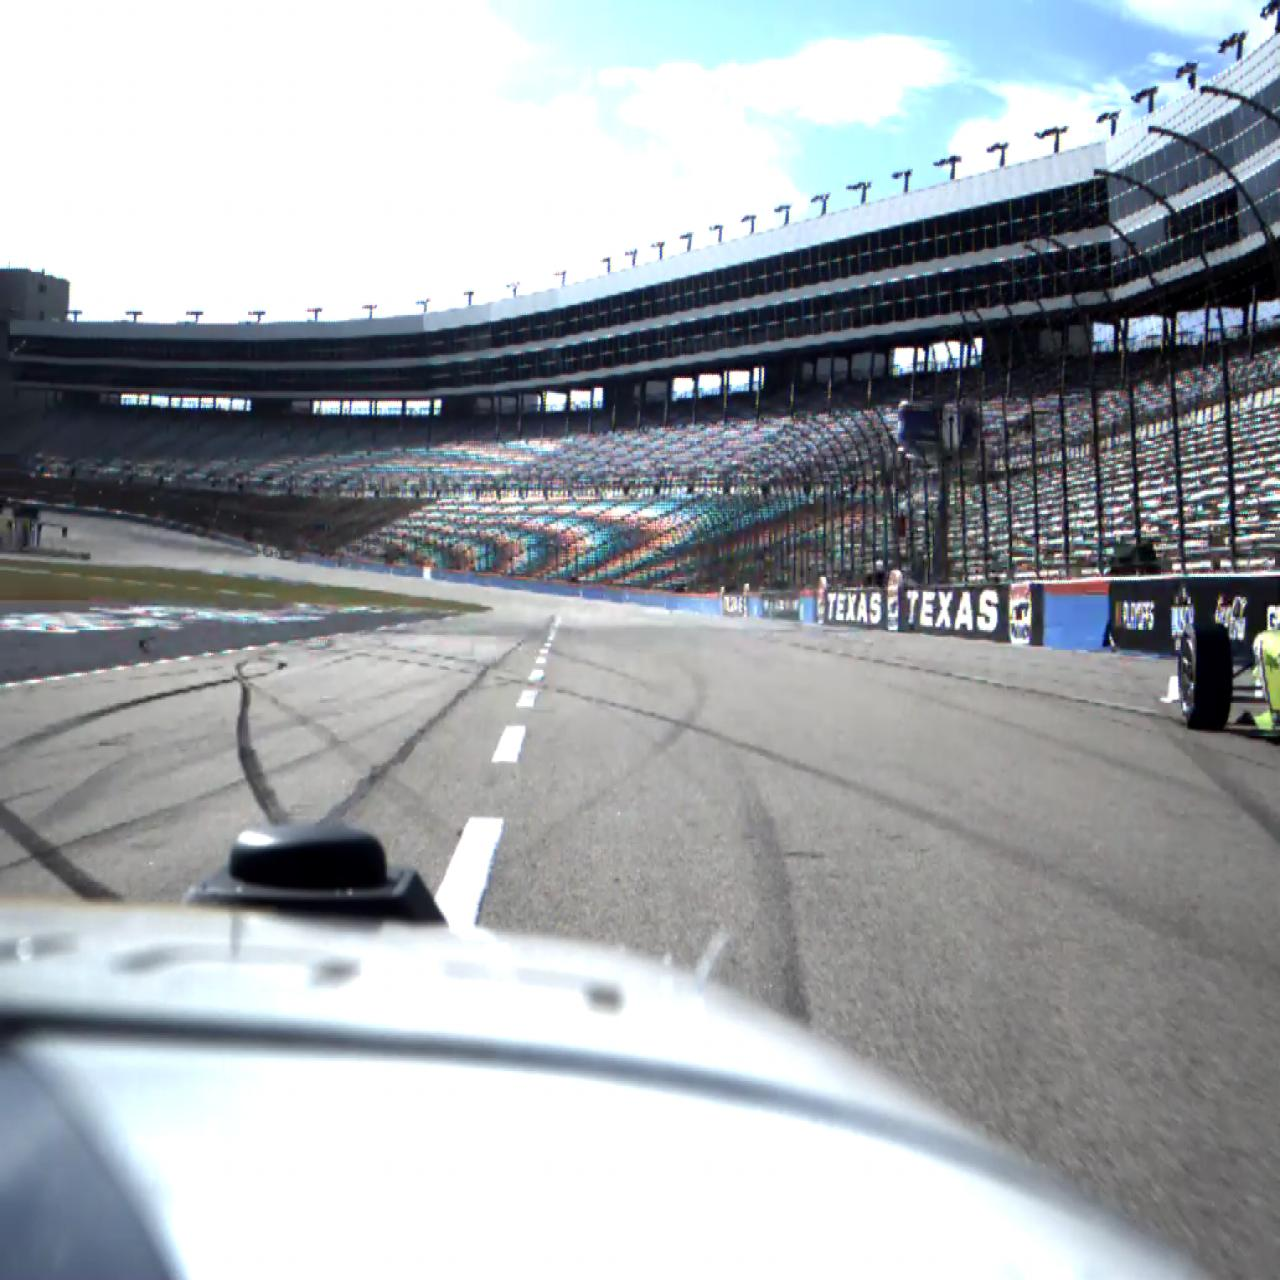Wheel: (1178, 621, 1231, 731)
